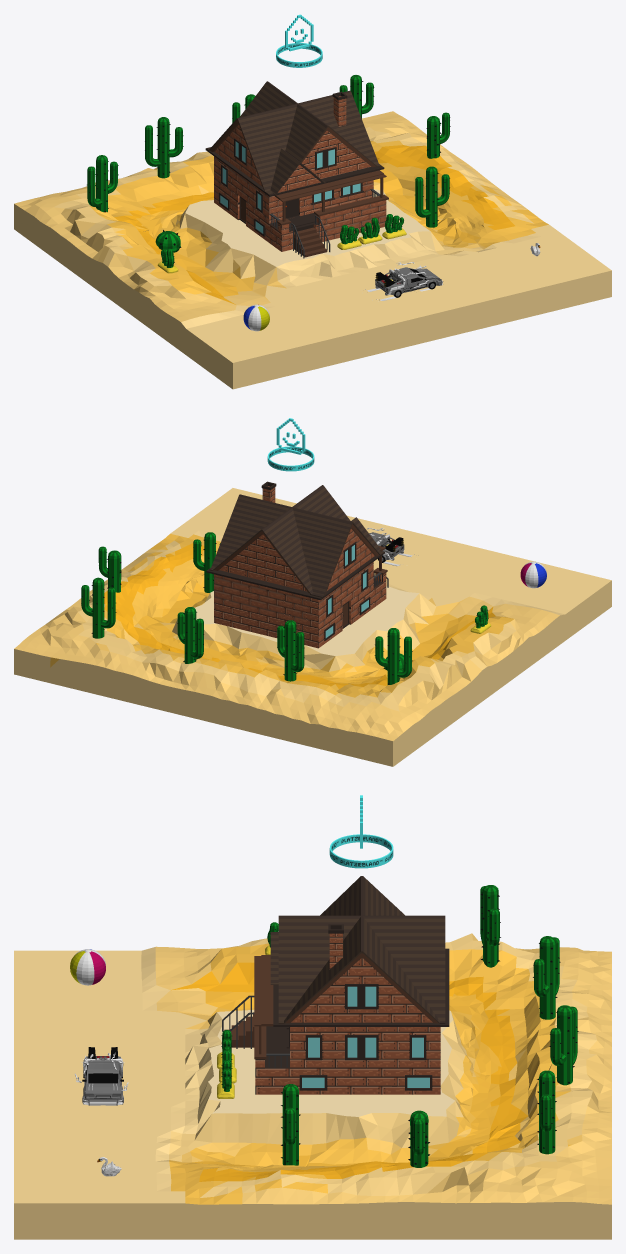
3 views of the same model, one above another, from view 1: azimuth 30°, elevation 25°; view 2: azimuth 150°, elevation 25°; view 3: azimuth 270°, elevation 25° (orthographic). The views are drawn at different scales.
Visible parts, largest first — view 1: Cube.001, Cube.469, VEHICLES_DELOREAN, Cylinder.044, Cylinder.037, Cylinder.045, TYPE_PREMIUM, Cylinder.038, Cylinder.042, OBJRANDOM_BEACHBALL; view 2: Cube.001, Cube.469, Cylinder.042, Cylinder.045, Cylinder.044, Cylinder.043, TYPE_PREMIUM, Cylinder.037, Cylinder.038, VEHICLES_DELOREAN, OBJRANDOM_BEACHBALL; view 3: Cube.001, Cube.469, VEHICLES_DELOREAN, Cylinder.044, Cylinder.043, Cylinder.045, Cylinder.042, Cylinder.037, TYPE_PREMIUM, OBJRANDOM_BEACHBALL, Cylinder.038.
Part boxes in pixels (left/top/right/bottom): Cube.001: left=14, top=111, right=611, bottom=389; Cube.469: left=205, top=81, right=388, bottom=258; VEHICLES_DELOREAN: left=365, top=262, right=443, bottom=301; Cylinder.044: left=145, top=117, right=183, bottom=178; Cylinder.037: left=415, top=166, right=449, bottom=227; Cylinder.045: left=87, top=155, right=118, bottom=212; TYPE_PREMIUM: left=276, top=14, right=322, bottom=67; Cylinder.038: left=426, top=112, right=450, bottom=158; Cylinder.042: left=339, top=75, right=374, bottom=118; OBJRANDOM_BEACHBALL: left=243, top=304, right=269, bottom=331; Cube.001: left=14, top=488, right=611, bottom=766; Cube.469: left=206, top=481, right=388, bottom=648; Cylinder.042: left=81, top=577, right=116, bottom=638; Cylinder.045: left=374, top=628, right=412, bottom=684; Cylinder.044: left=277, top=620, right=304, bottom=681; Cylinder.043: left=177, top=607, right=203, bottom=663; TYPE_PREMIUM: left=267, top=418, right=314, bottom=471; Cylinder.037: left=193, top=532, right=220, bottom=592; Cylinder.038: left=98, top=546, right=121, bottom=592; VEHICLES_DELOREAN: left=367, top=527, right=418, bottom=566; OBJRANDOM_BEACHBALL: left=520, top=561, right=546, bottom=588; Cube.001: left=14, top=933, right=611, bottom=1239; Cube.469: left=222, top=876, right=449, bottom=1094; VEHICLES_DELOREAN: left=74, top=1047, right=128, bottom=1105; Cylinder.044: left=533, top=936, right=560, bottom=1019; Cylinder.043: left=549, top=1005, right=578, bottom=1085; Cylinder.045: left=480, top=885, right=500, bottom=967; Cylinder.042: left=537, top=1070, right=556, bottom=1154; Cylinder.037: left=281, top=1084, right=300, bottom=1165; TYPE_PREMIUM: left=329, top=795, right=393, bottom=868; OBJRANDOM_BEACHBALL: left=70, top=949, right=105, bottom=985; Cylinder.038: left=408, top=1110, right=429, bottom=1167.
Bounding box in the file's own units: 4002 × 2538 × 4001.
34 materials, 4 textured.
